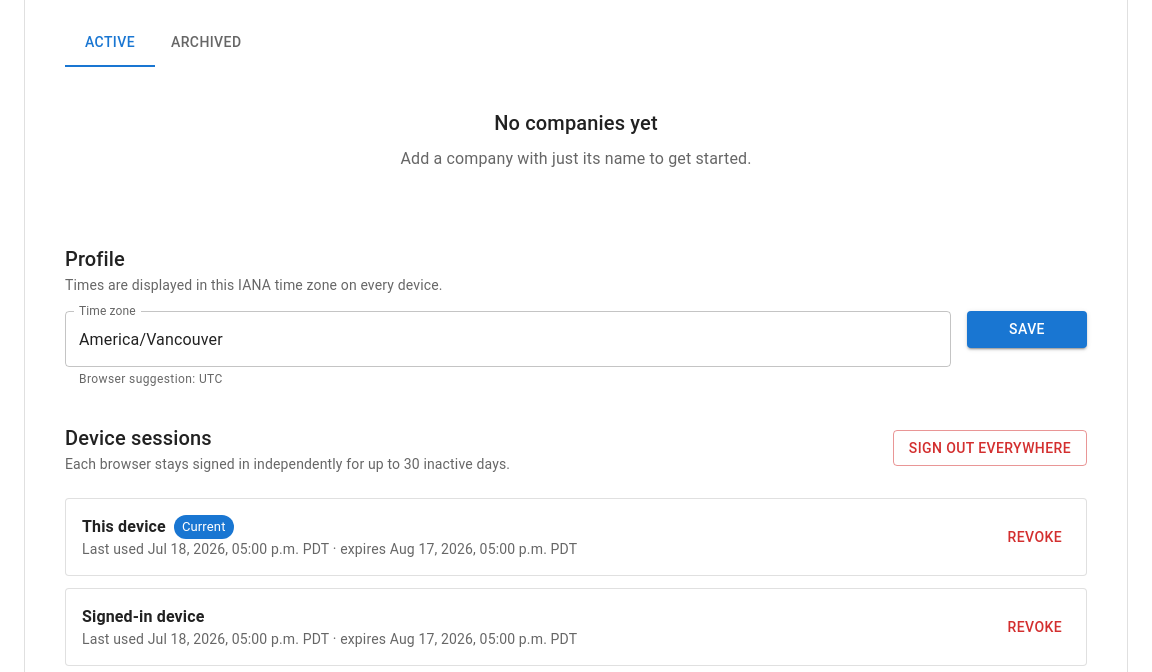
Scenario: identity workflow › updates the persisted profile zone and rerenders shared timestamps
This screenshot has width=1152, height=672.
(page scrolled)
Step 1. Replace the text in the field labelled "Time zone" with "Asia/Tokyo" → coordinates (508, 339), box [65,311,951,367]
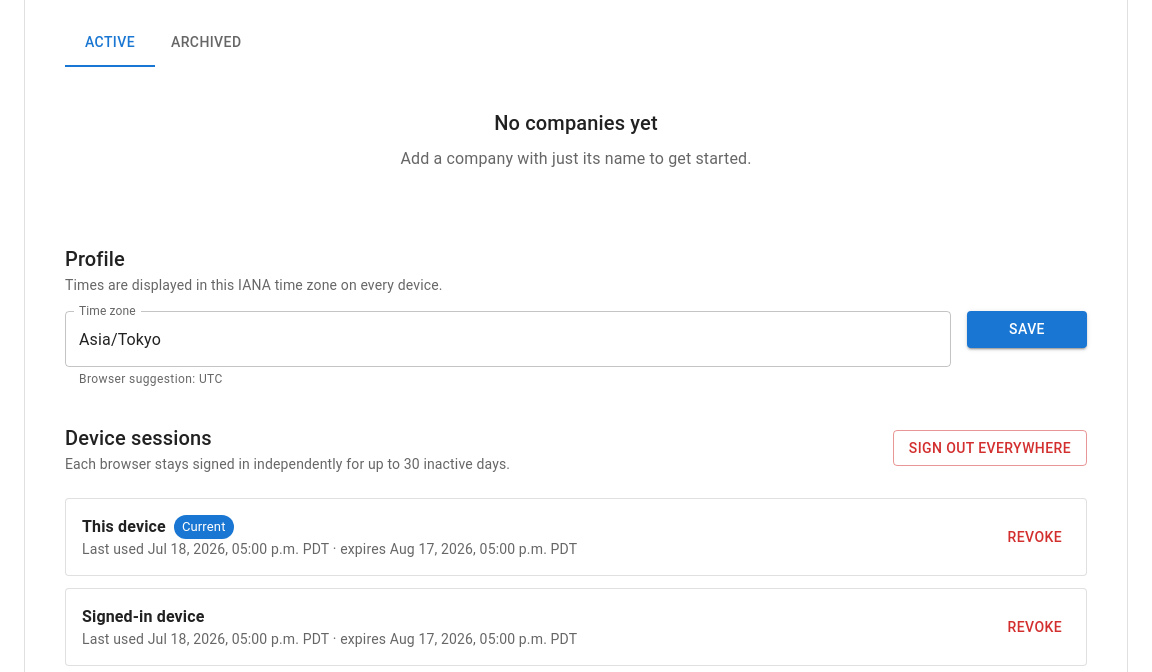
Step 2. Click the button "Save" → coordinates (1027, 329), box [967,311,1087,348]
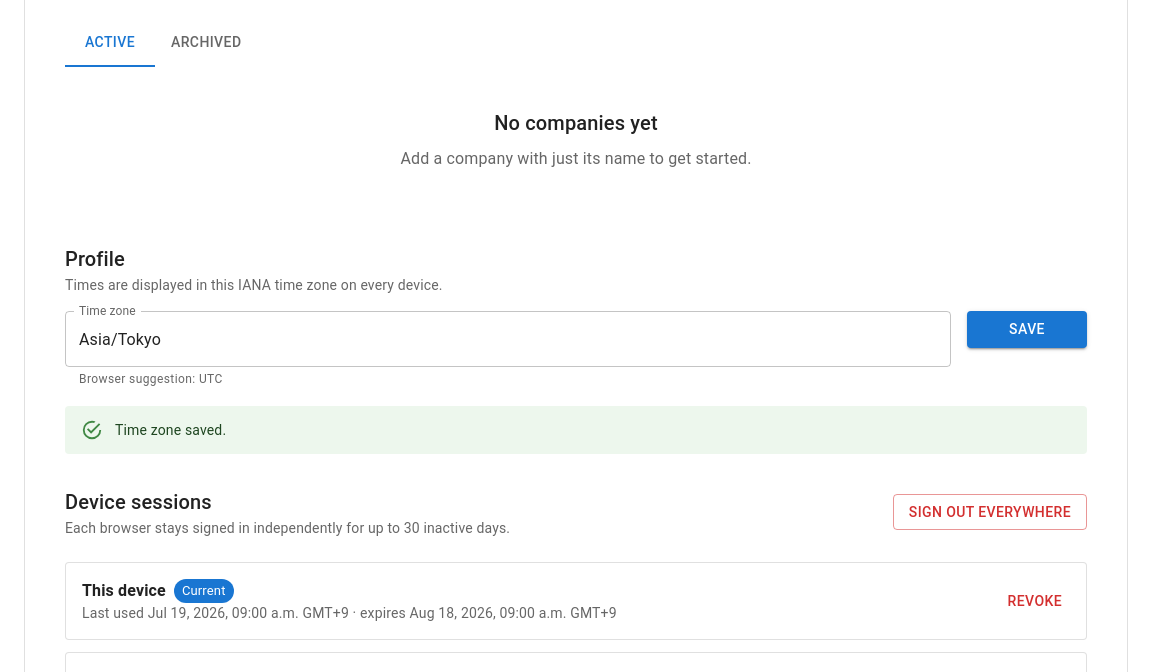
Check: the text "Time zone saved." is shown, box [115,422,226,438]
